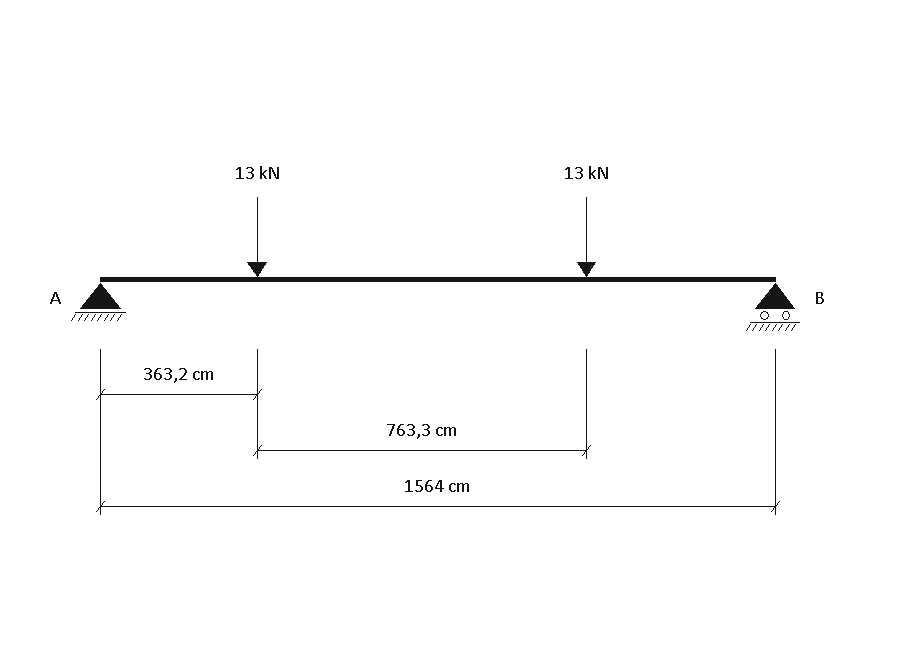pin_support: (71, 283, 126, 321)
point_load: (247, 197, 267, 277), (577, 197, 596, 277)
roller_support: (746, 283, 800, 331)
